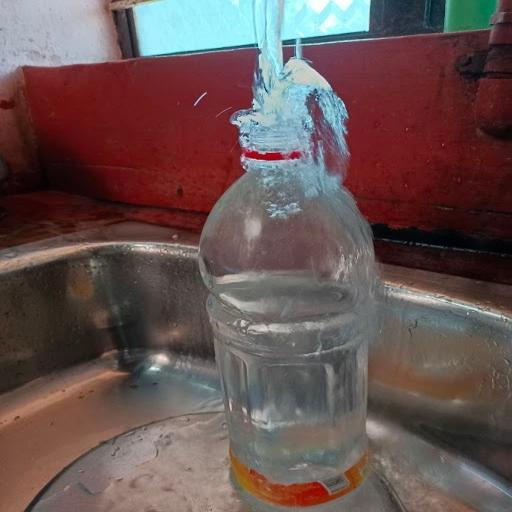bottle: (182, 89, 394, 512)
